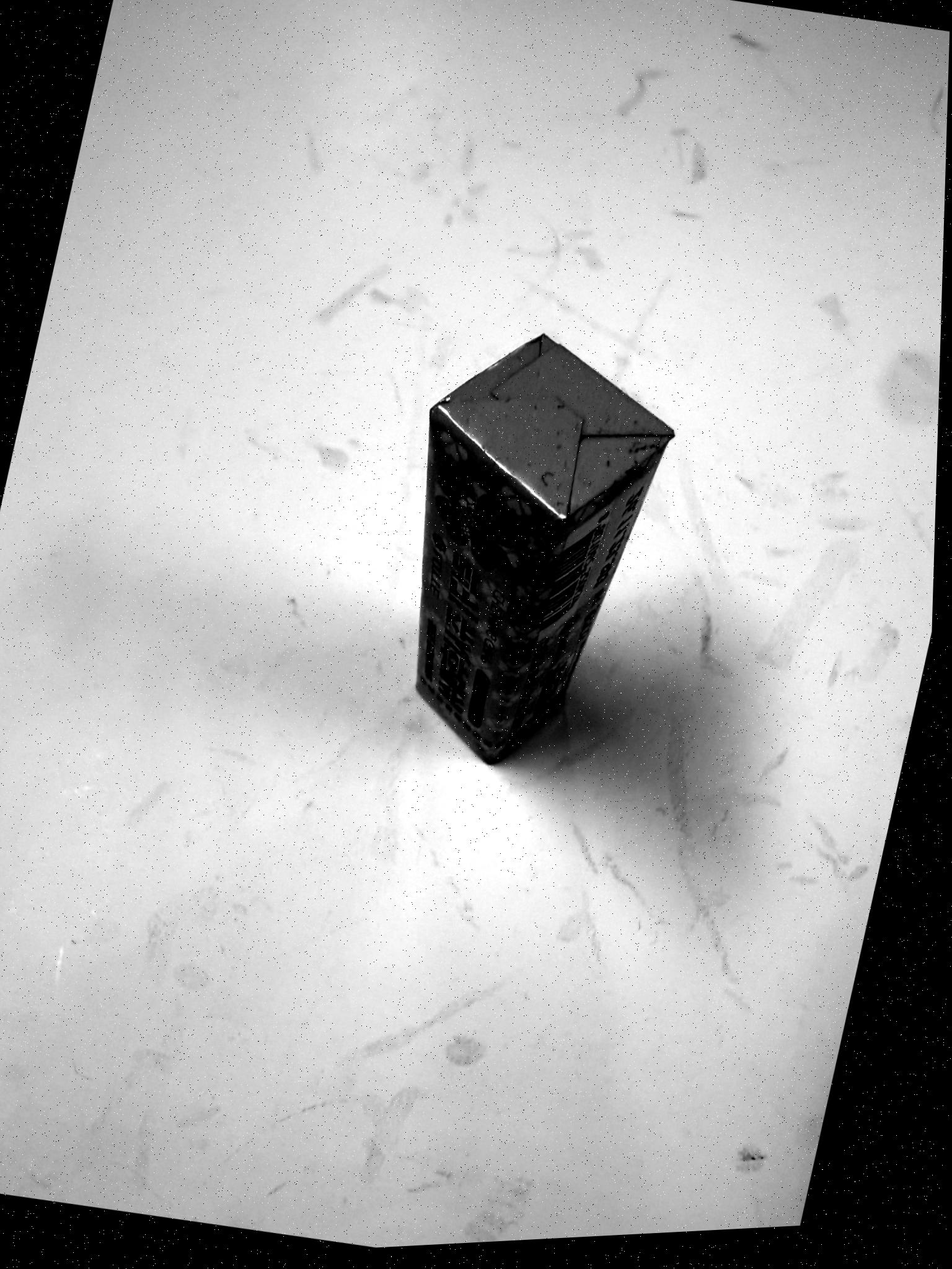gum_yellow: (412, 327, 674, 767)
